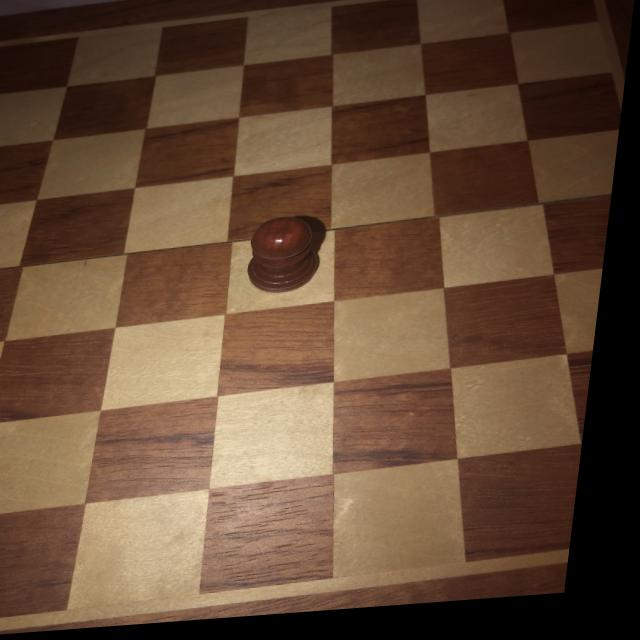black_pawn: (248, 212, 331, 304)
